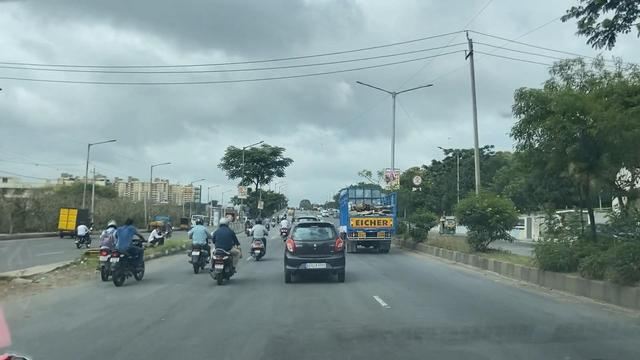HMV: (338, 194, 401, 252)
LMV: (280, 221, 343, 287), (104, 221, 154, 281), (213, 220, 238, 289), (184, 218, 210, 269), (248, 217, 273, 258)
